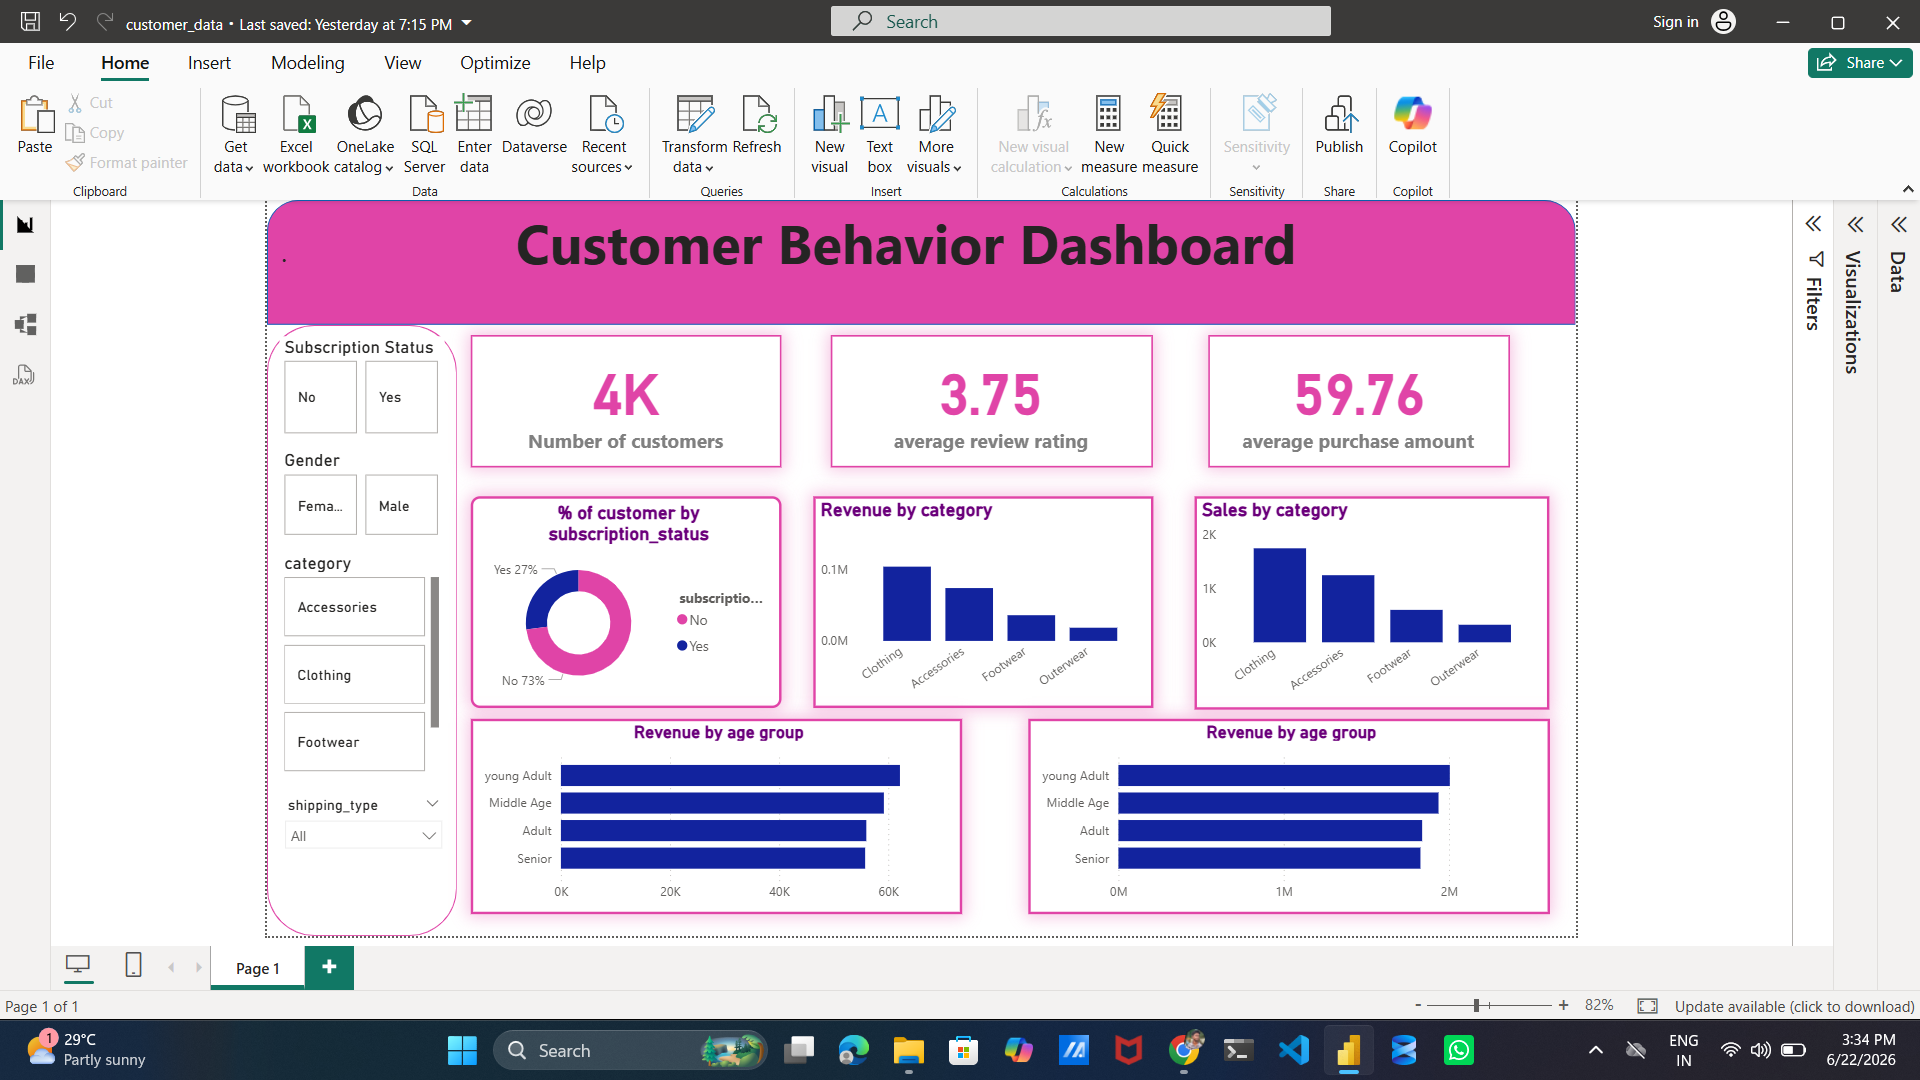

Layout of this report page (visuals, bound fields, positions):
{"tool":"powerbi","page":{"name":"Page 1","canvas":[1280,720],"ordinal":0},"visuals":[{"type":"card","fields":{"Values":["Customer_Data.Number of customers"]},"box":[199.2,131.9,304.3,129.2],"z":0},{"type":"card","fields":{"Values":["Customer_Data.average review rating"]},"box":[552,131.9,315,129.2],"z":1},{"type":"card","fields":{"Values":["Customer_Data.average purchase amount"]},"box":[920.8,131.9,294.8,129.2],"z":2},{"type":"shape","box":[0,0,1280.3,122.1],"z":3},{"type":"textbox","box":[0,0,1280.3,122.1],"z":4},{"type":"donutChart","fields":{"Category":["Customer_Data.subscription_status"],"Y":["CountNonNull(Customer_Data.customer_id)"]},"box":[199.2,289.4,304.3,207.3],"z":5},{"type":"clusteredColumnChart","title":"Revenue by category","fields":{"Category":["Customer_Data.category"],"Y":["Sum(Customer_Data.purachase_amount_usd)"]},"box":[534.5,289.4,332.5,207.3],"z":6},{"type":"clusteredColumnChart","title":"Sales by category","fields":{"Category":["Customer_Data.category"],"Y":["CountNonNull(Customer_Data.customer_id)"]},"box":[907.4,289.4,347.3,208.7],"z":7},{"type":"shape","box":[0,122.5,185.8,597.7],"z":8},{"type":"advancedSlicerVisual","fields":{"Values":["Customer_Data.subscription_status"]},"box":[12.1,133.3,161.5,101],"z":9},{"type":"advancedSlicerVisual","fields":{"Values":["Customer_Data.gender"]},"box":[12.1,245,161.5,88.9],"z":10},{"type":"advancedSlicerVisual","fields":{"Values":["Customer_Data.category"]},"box":[12.1,344.6,161.5,222.1],"z":11},{"type":"slicer","fields":{"Values":["Customer_Data.shipping_type"]},"box":[6.7,578.9,173.7,80.8],"z":12},{"type":"clusteredBarChart","title":"Revenue by age group","fields":{"Category":["Customer_Data.age_group"],"Y":["Sum(Customer_Data.purachase_amount_usd)"]},"box":[199.2,507.5,480.6,191.2],"z":13},{"type":"clusteredBarChart","title":"Revenue by age group","fields":{"Category":["Customer_Data.age_group"],"Y":["Sum(Customer_Data.customer_id)"]},"box":[744.5,507.5,510.2,191.2],"z":14}]}

Visuals, with their boxes on the page's 1280x720 design canvas (x1, y1, x2, y2). These are canvas units, not pixel positions in the 1920x1080 screenshot, which may show the page scaled, cropped or inside an application window:
card - Customer_Data.Number of customers: 199,132,504,261
card - Customer_Data.average review rating: 552,132,867,261
card - Customer_Data.average purchase amount: 921,132,1216,261
shape: 0,0,1280,122
textbox: 0,0,1280,122
donutChart - Customer_Data.subscription_status x CountNonNull(Customer_Data.customer_id): 199,289,504,497
"Revenue by category" clusteredColumnChart: 534,289,867,497
"Sales by category" clusteredColumnChart: 907,289,1255,498
shape: 0,122,186,720
advancedSlicerVisual - Customer_Data.subscription_status: 12,133,174,234
advancedSlicerVisual - Customer_Data.gender: 12,245,174,334
advancedSlicerVisual - Customer_Data.category: 12,345,174,567
slicer - Customer_Data.shipping_type: 7,579,180,660
"Revenue by age group" clusteredBarChart: 199,508,680,699
"Revenue by age group" clusteredBarChart: 744,508,1255,699
